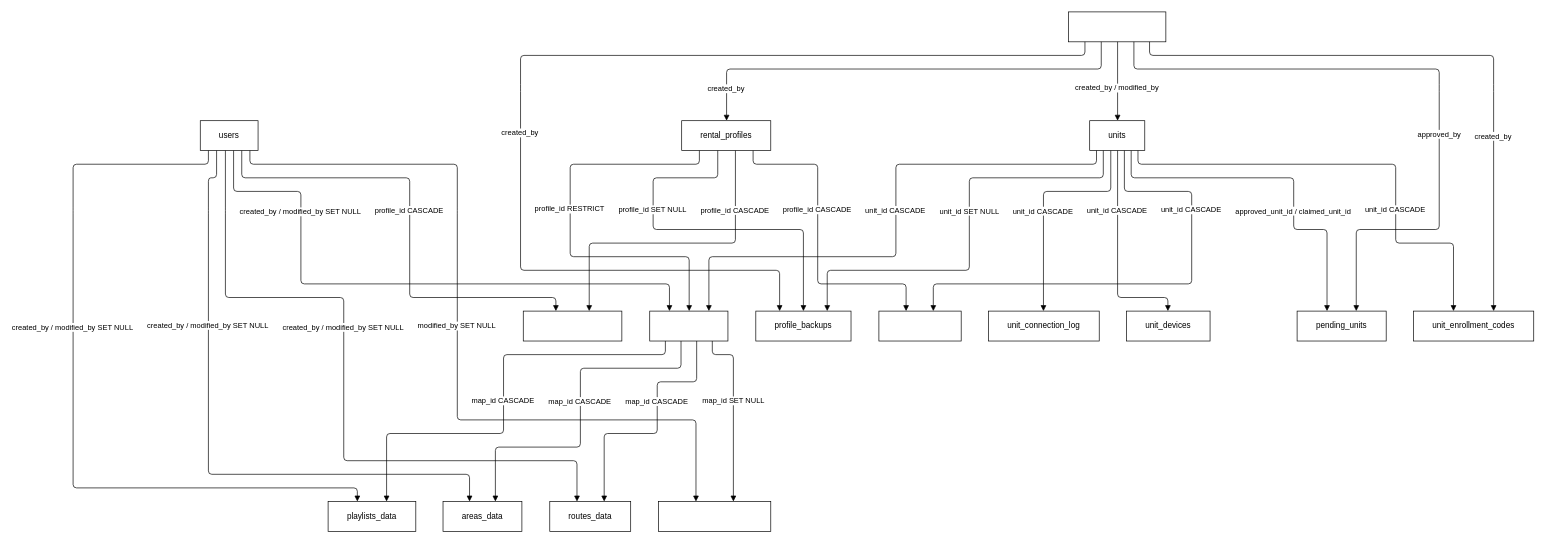
This 1546x543 diagram has some shape labels left out. The shapes that lost their labels are listed below. From the top down, each one's box as (x1, y1, x2, y2) in pixels, then its label:
(1068, 11, 1166, 42): admin_accounts
(523, 310, 622, 341): profile_members
(649, 310, 728, 341): maps_data
(878, 310, 961, 341): profile_units
(658, 501, 771, 531): unit_operation_state
